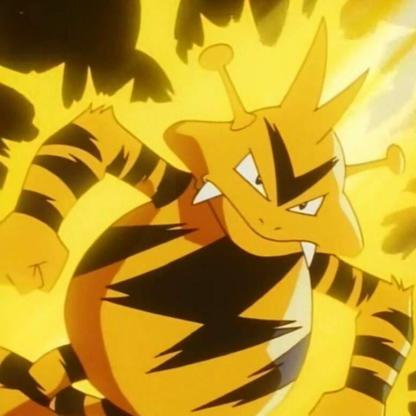Electabuzz: (1, 68, 416, 416)
